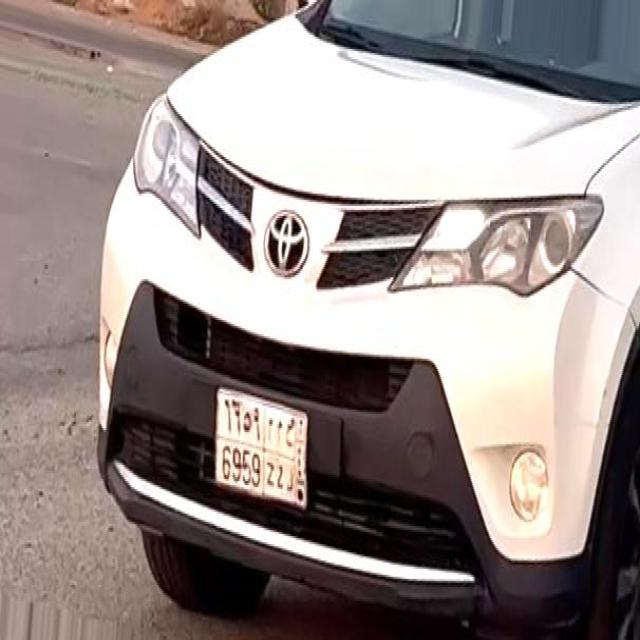Car-plate: (201, 372, 312, 531)
